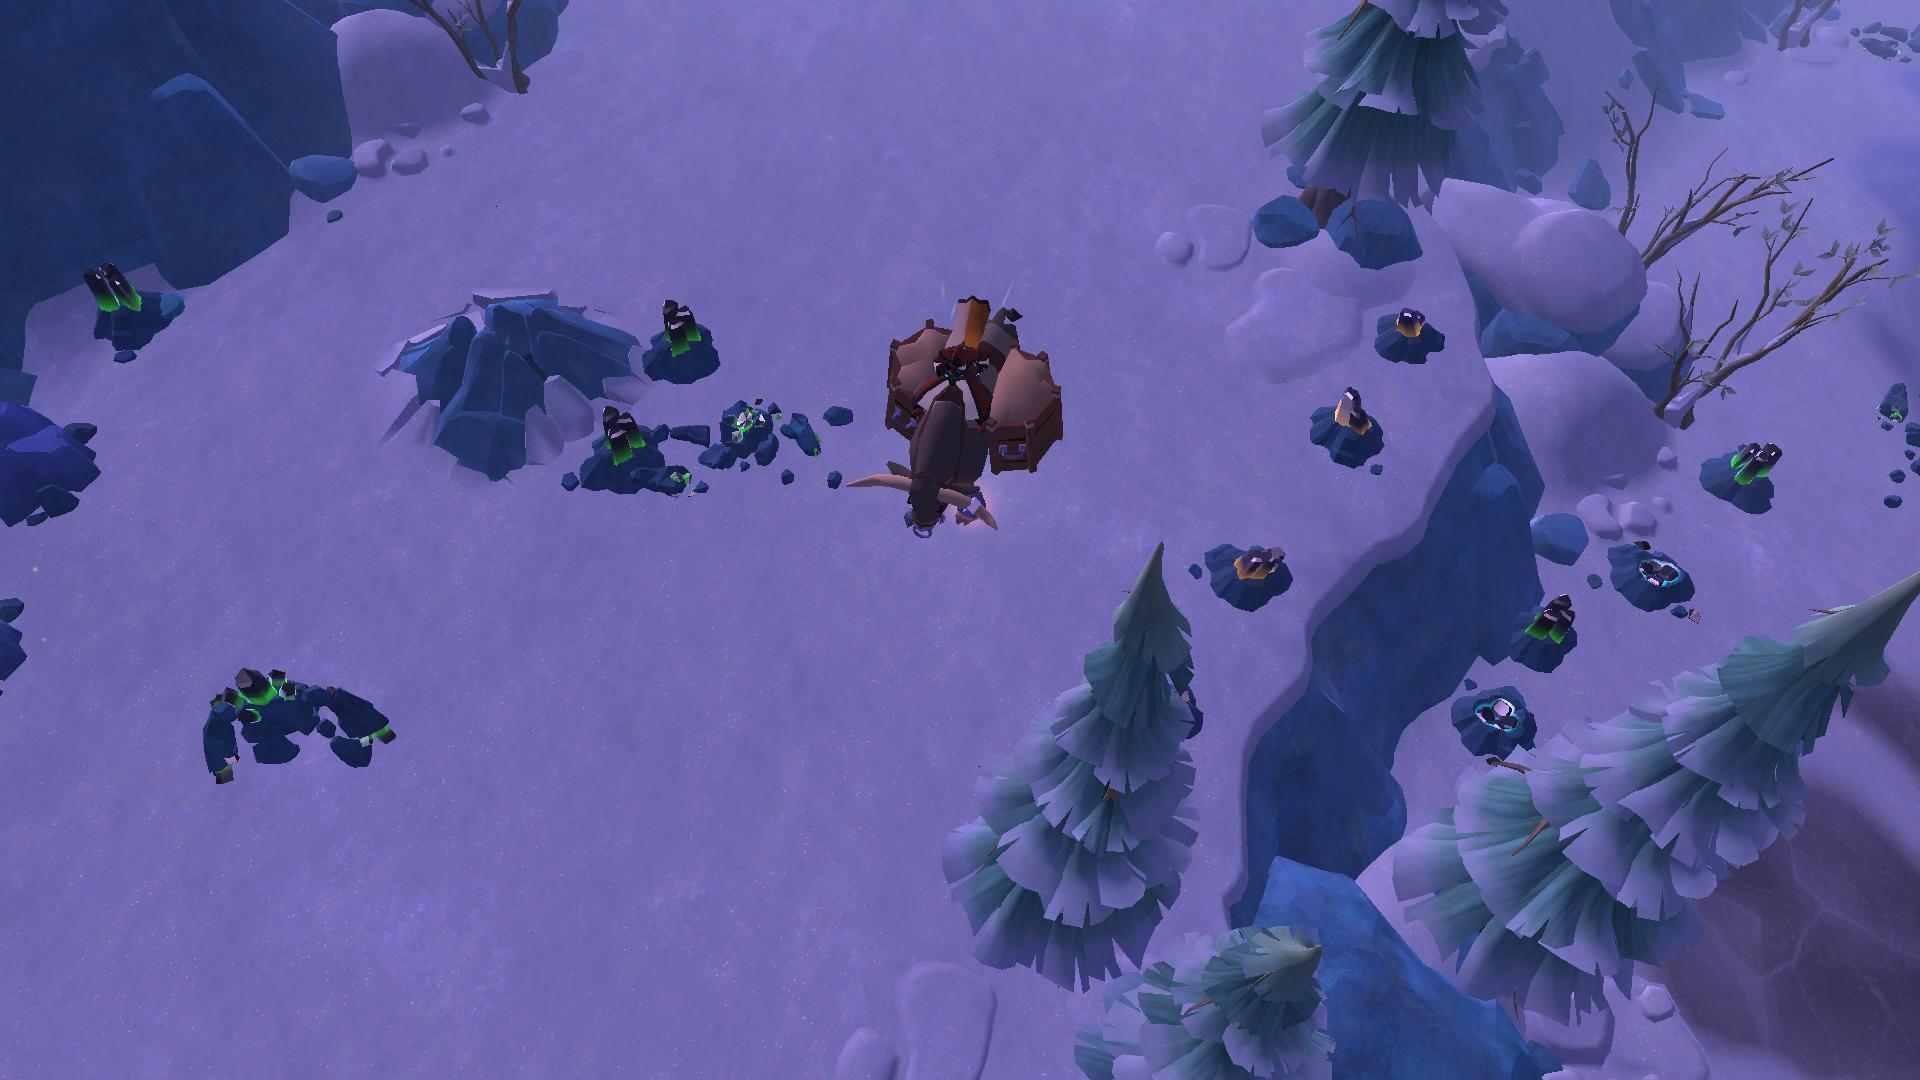ore_t3: (78, 256, 145, 324), (589, 394, 649, 467), (1729, 431, 1782, 497), (1524, 587, 1576, 653), (659, 291, 700, 357)
rock_t4: (0, 392, 108, 526)
